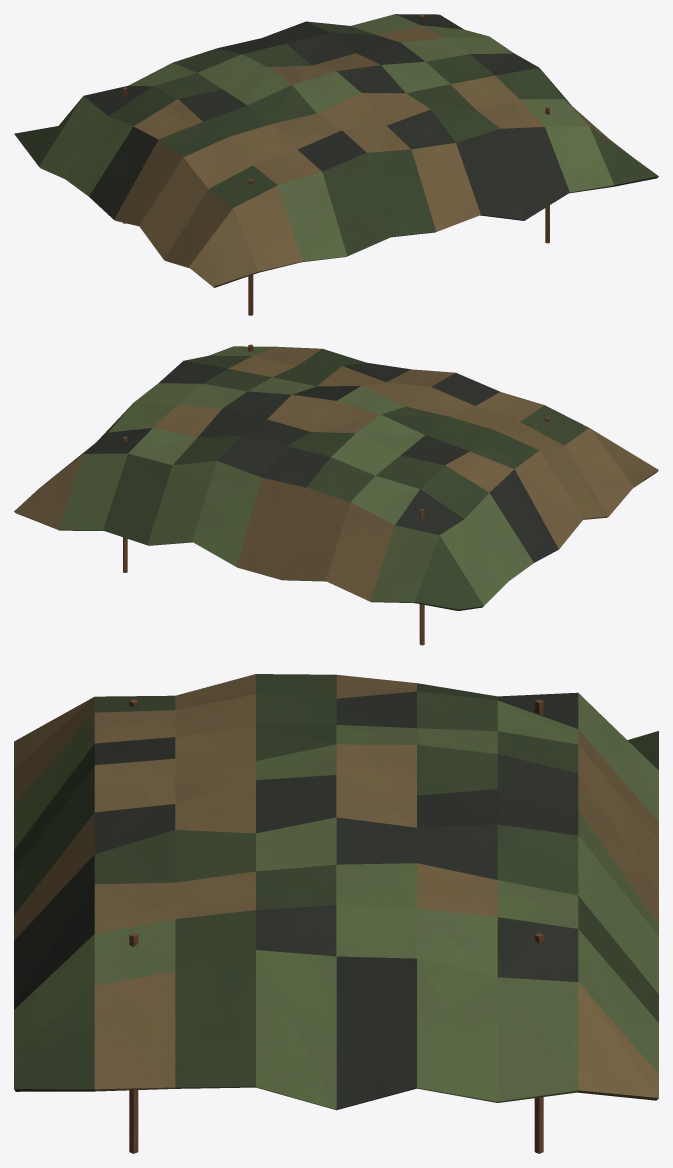
File: kamonat_tex.glb
3 renders of one model, top to bottom at view 1: azimuth 30°, elevation 25°; view 2: azimuth 150°, elevation 25°; view 3: azimuth 270°, elevation 25°, orthographic. The views are drawn at different scales.
Parts seen in each view (by area): view 1: kamonat; view 2: kamonat; view 3: kamonat.
Part boxes in pixels (x1,y1,x2,y2): kamonat: [14, 14, 658, 315]; kamonat: [14, 344, 658, 645]; kamonat: [14, 674, 658, 1153].
Bounding box in the file's own units: 9 × 3.12 × 7.
5 materials, 5 textured.
